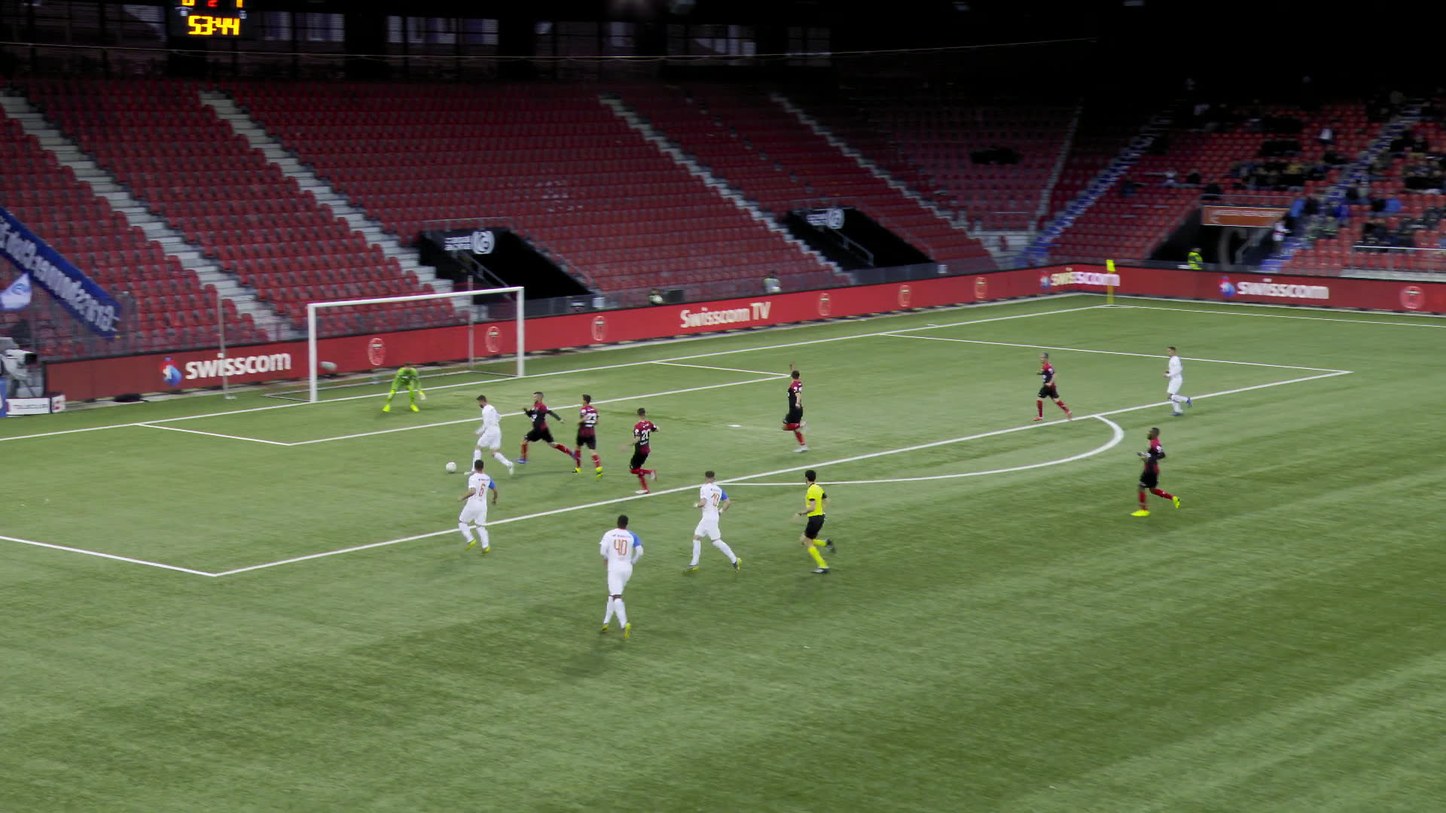ball: (447, 461, 457, 471)
goalkeeper: (376, 361, 423, 411)
player: (767, 355, 829, 446), (594, 518, 640, 635), (450, 460, 502, 552), (690, 472, 734, 574), (1124, 425, 1173, 515), (618, 403, 669, 489), (1150, 343, 1198, 413), (474, 394, 513, 476), (572, 397, 601, 480), (1031, 354, 1063, 422), (529, 391, 557, 465), (1439, 478, 1445, 483)
referee: (784, 467, 856, 571)
